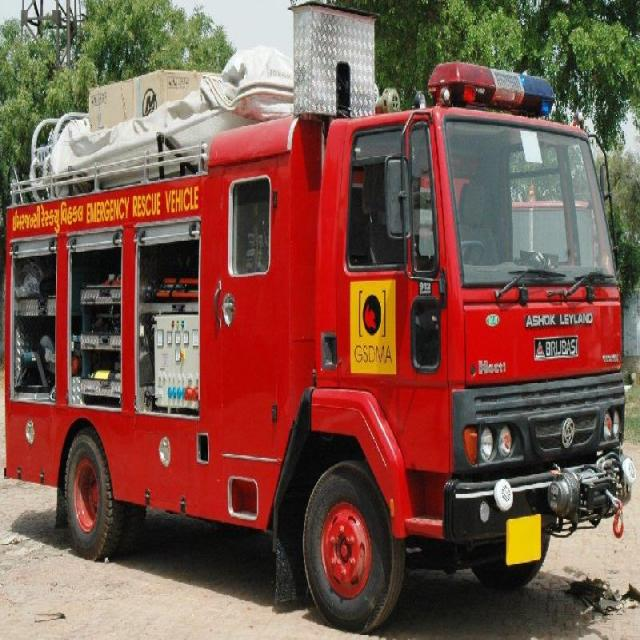emergency: (5, 4, 635, 632)
